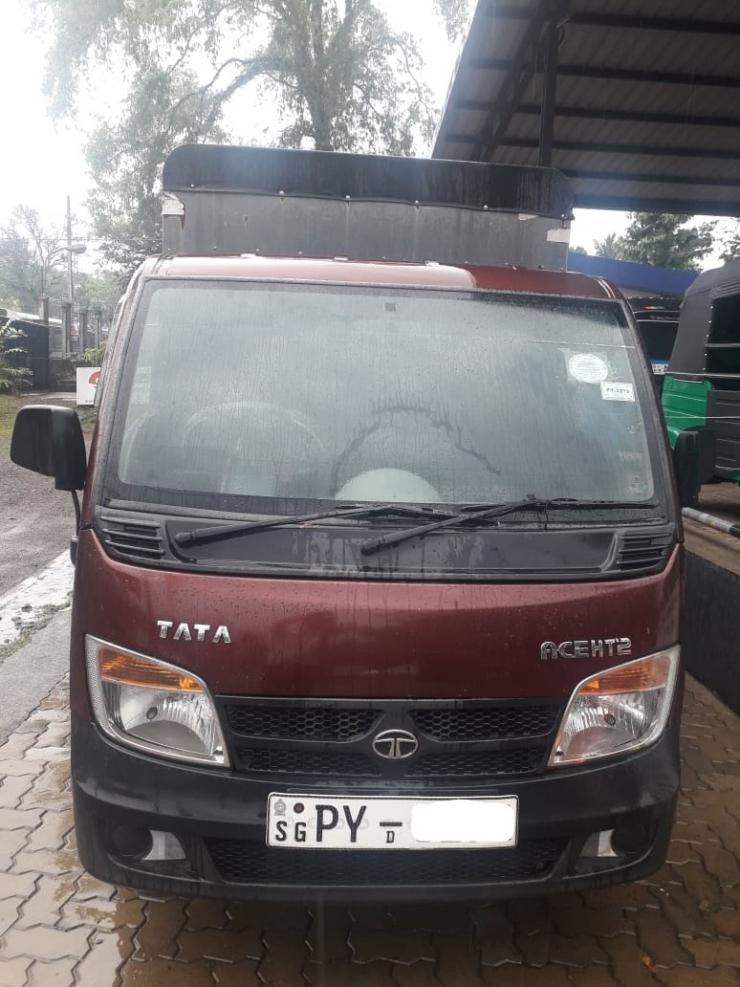truck: (10, 141, 702, 905)
